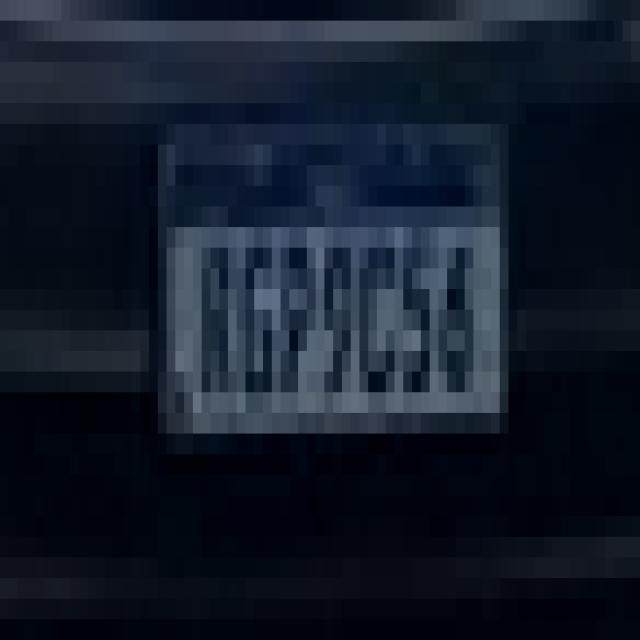Placa_mercosul_carro: (167, 151, 495, 413)
